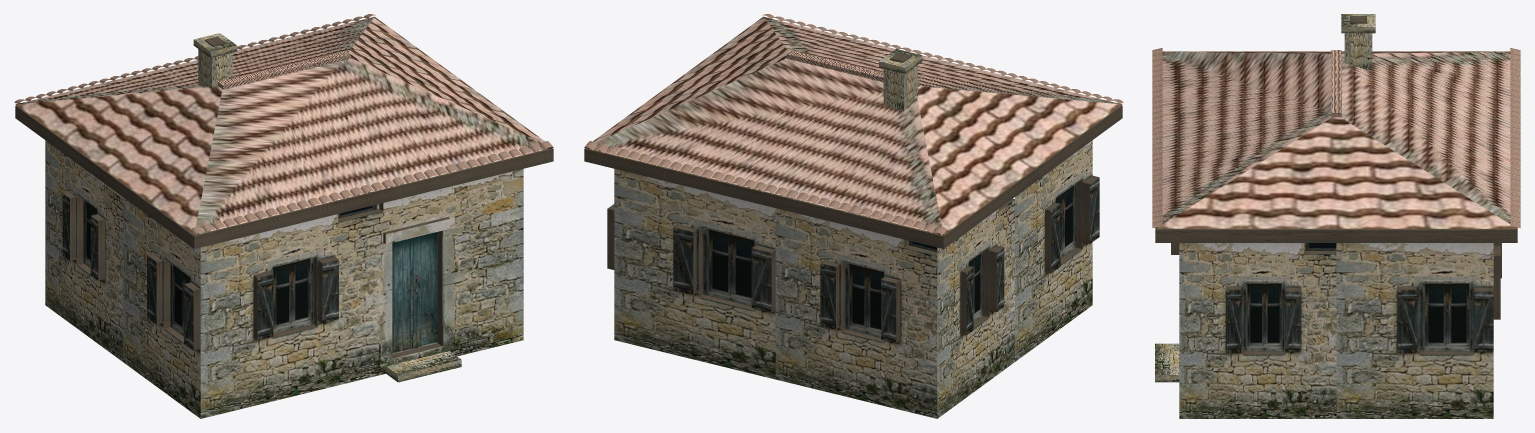
Rendered from tas.glb.
The picture shows the model from 3 angles, left to right: view 1: azimuth 30°, elevation 25°; view 2: azimuth 150°, elevation 25°; view 3: azimuth 270°, elevation 25°; orthographic projection.
Parts seen in each view (by area): view 1: tas; view 2: tas; view 3: tas.
Part boxes in pixels (bbox=[...]): tas: bbox=[14, 14, 553, 418]; tas: bbox=[584, 14, 1123, 418]; tas: bbox=[1152, 14, 1520, 418].
Size of the model in its own units: 6.68 by 5.11 by 5.85.
1 material, 1 textured.
